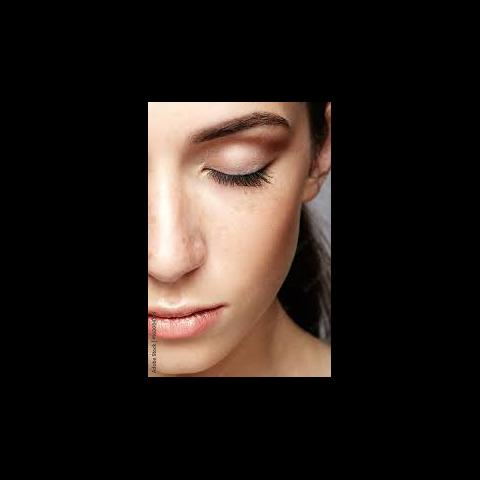closed: (178, 106, 296, 196)
